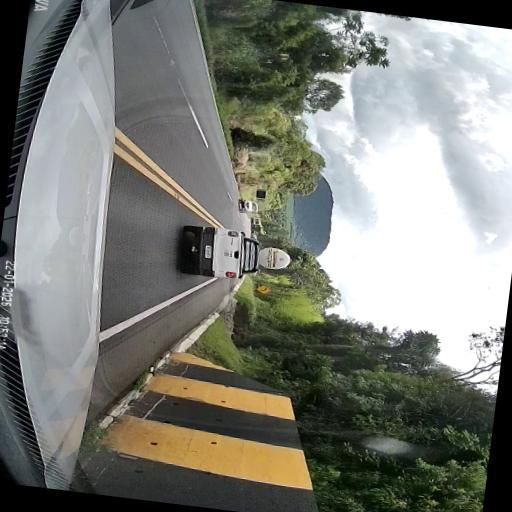A-2a: (254, 284, 270, 296)
